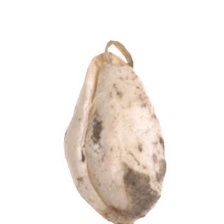L1: (91, 38, 131, 68), (100, 204, 145, 223)
L2: (63, 41, 167, 223)
